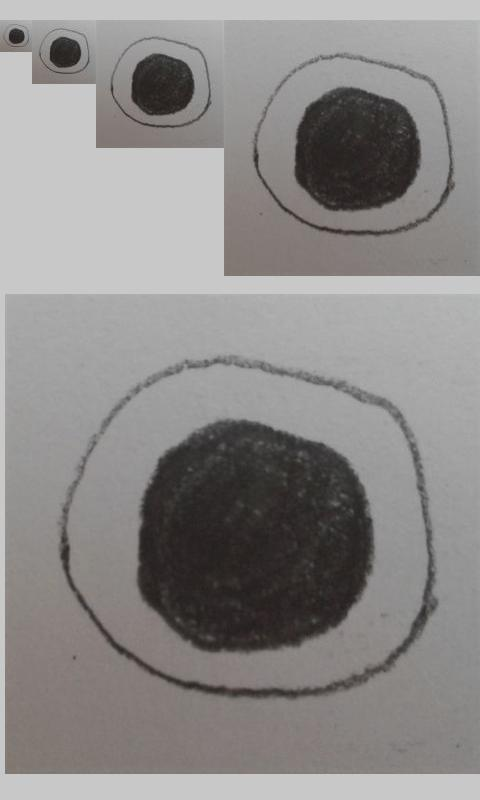radio_button: (59, 357, 440, 703), (252, 52, 456, 238), (110, 35, 212, 129), (38, 28, 90, 75), (2, 22, 30, 48)
